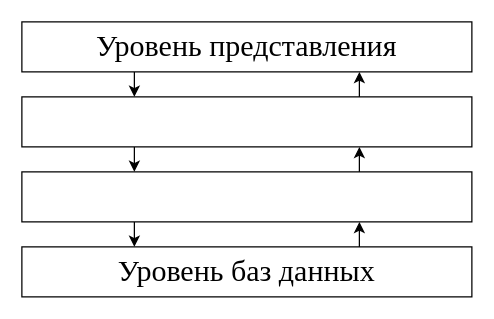
The diagram is 494 pixels wide and 319 high, and some of its shapes have lost their labels. The centre of each missing label's shape, as x and y in pixels:
Уровень бизнес-логики: the point at 246,121
Уровень хранения: the point at 246,196
